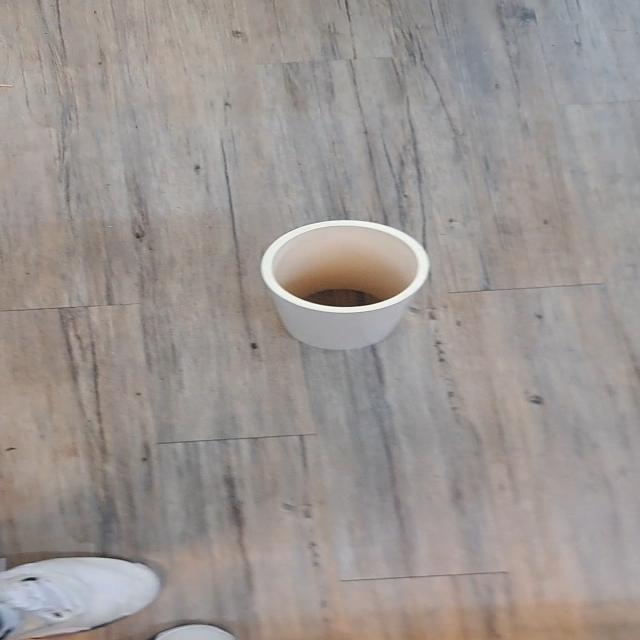CORAL: (223, 192, 452, 384)
